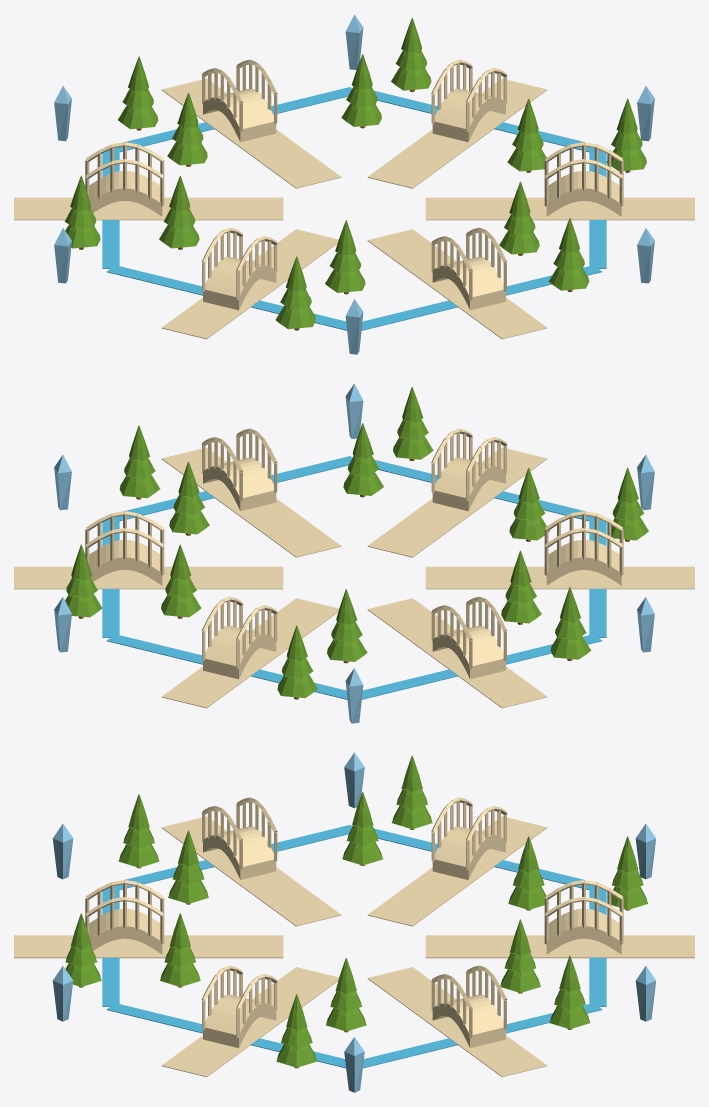
The model's file is decoration.glb.
3 views of the same model, one above another, from view 1: azimuth 30°, elevation 25°; view 2: azimuth 150°, elevation 25°; view 3: azimuth 270°, elevation 25° (orthographic).
Visible parts, largest first — view 1: 07_Empire_HexCanalAndSixBridges, 07_Empire_AvenueTrees; view 2: 07_Empire_HexCanalAndSixBridges, 07_Empire_AvenueTrees; view 3: 07_Empire_HexCanalAndSixBridges, 07_Empire_AvenueTrees.
Boxes of the visible parts, x1=… form: 07_Empire_HexCanalAndSixBridges: x1=14, y1=14, x2=694, y2=354; 07_Empire_AvenueTrees: x1=64, y1=17, x2=646, y2=330; 07_Empire_HexCanalAndSixBridges: x1=14, y1=383, x2=694, y2=723; 07_Empire_AvenueTrees: x1=65, y1=386, x2=648, y2=699; 07_Empire_HexCanalAndSixBridges: x1=14, y1=752, x2=694, y2=1092; 07_Empire_AvenueTrees: x1=65, y1=755, x2=647, y2=1068.
Size of the model in its own units: 1.75 by 0.204 by 1.72.
